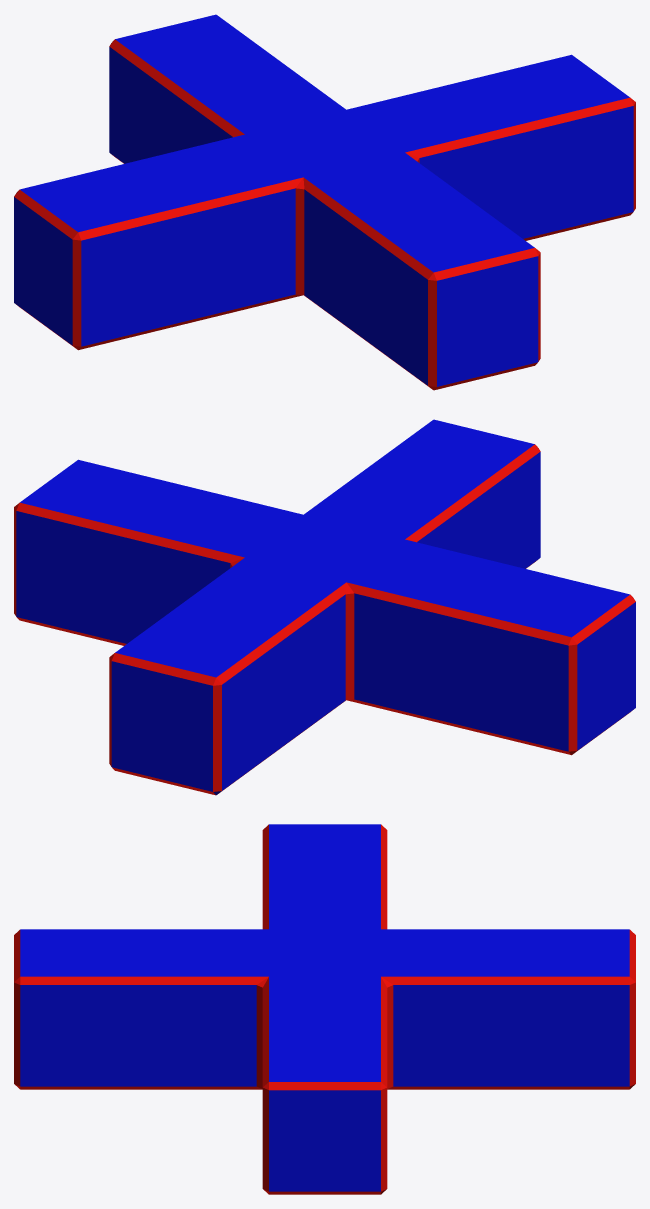
The model's file is Cross.fbx.
The picture shows the model from 3 angles, top to bottom: view 1: azimuth 30°, elevation 25°; view 2: azimuth 150°, elevation 25°; view 3: azimuth 270°, elevation 25°; orthographic projection. The views are drawn at different scales.
Parts seen in each view (by area): view 1: Cube; view 2: Cube; view 3: Cube.
Part boxes in pixels (<box>): Cube: <box>14,14,635,390</box>; Cube: <box>14,419,635,795</box>; Cube: <box>14,824,635,1194</box>.
Bounding box in the file's own units: 250 × 50 × 250.
